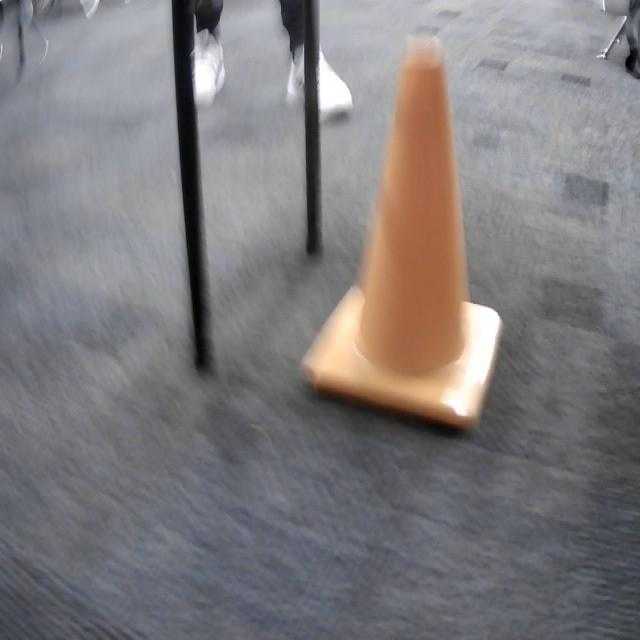cone: (306, 40, 502, 431)
